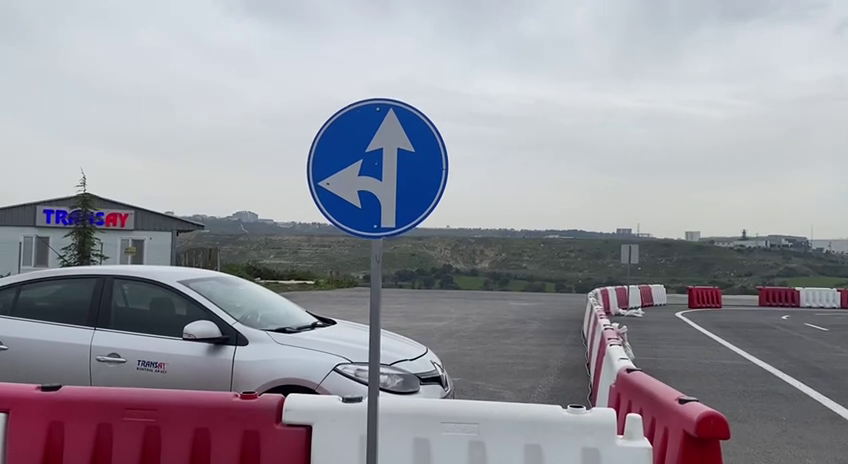forwardAndLeft: (303, 97, 454, 243)
